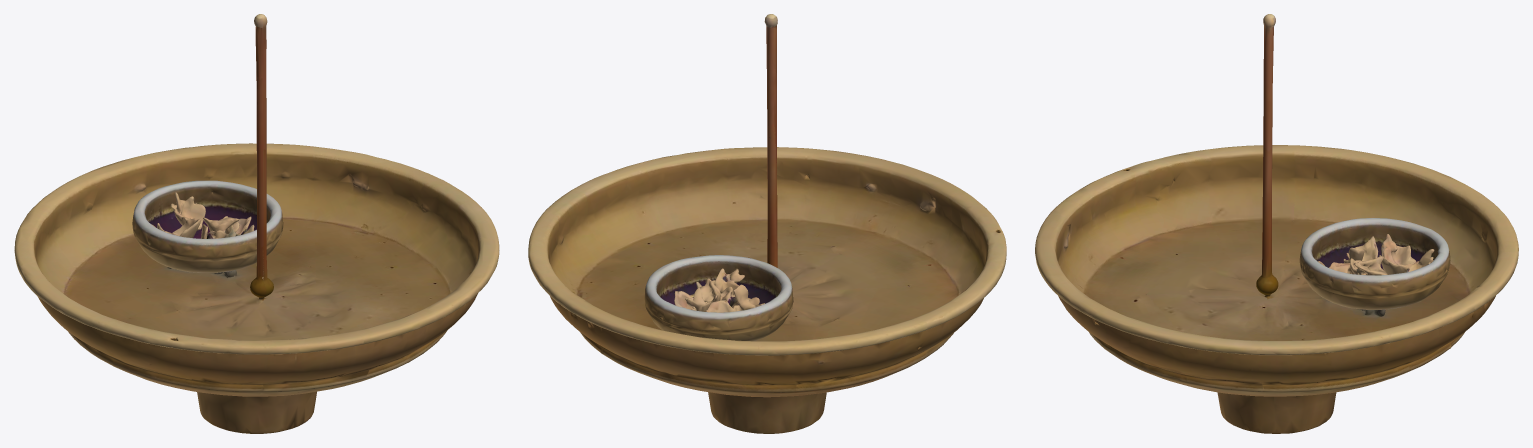
File: incense.glb
3 renders of one model, left to right at view 1: azimuth 30°, elevation 25°; view 2: azimuth 150°, elevation 25°; view 3: azimuth 270°, elevation 25°, orthographic.
Visible parts, largest first — view 1: tripo_node_8c4fc3fa-ea07-4933-a6e5-b1e5064d37ae; view 2: tripo_node_8c4fc3fa-ea07-4933-a6e5-b1e5064d37ae; view 3: tripo_node_8c4fc3fa-ea07-4933-a6e5-b1e5064d37ae.
Boxes of the visible parts, box(x1,y1,x2,y2) form: tripo_node_8c4fc3fa-ea07-4933-a6e5-b1e5064d37ae: box(14, 14, 499, 433); tripo_node_8c4fc3fa-ea07-4933-a6e5-b1e5064d37ae: box(528, 14, 1006, 433); tripo_node_8c4fc3fa-ea07-4933-a6e5-b1e5064d37ae: box(1035, 14, 1518, 433).
Size of the model in its own units: 0.9994 by 0.9024 by 0.9998.
1 material, 1 textured.
